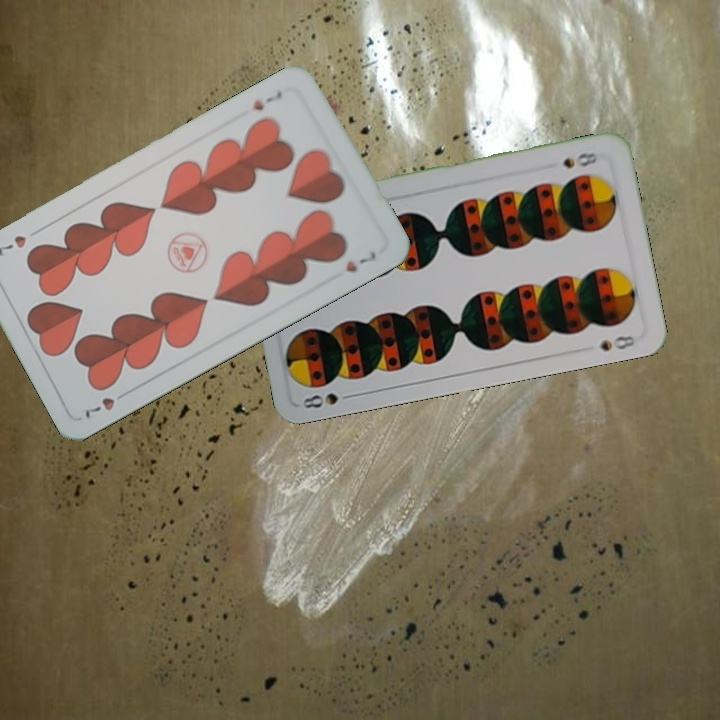H7: (80, 385, 133, 421), (248, 87, 285, 114)
S8: (298, 389, 358, 411), (559, 148, 601, 171)
